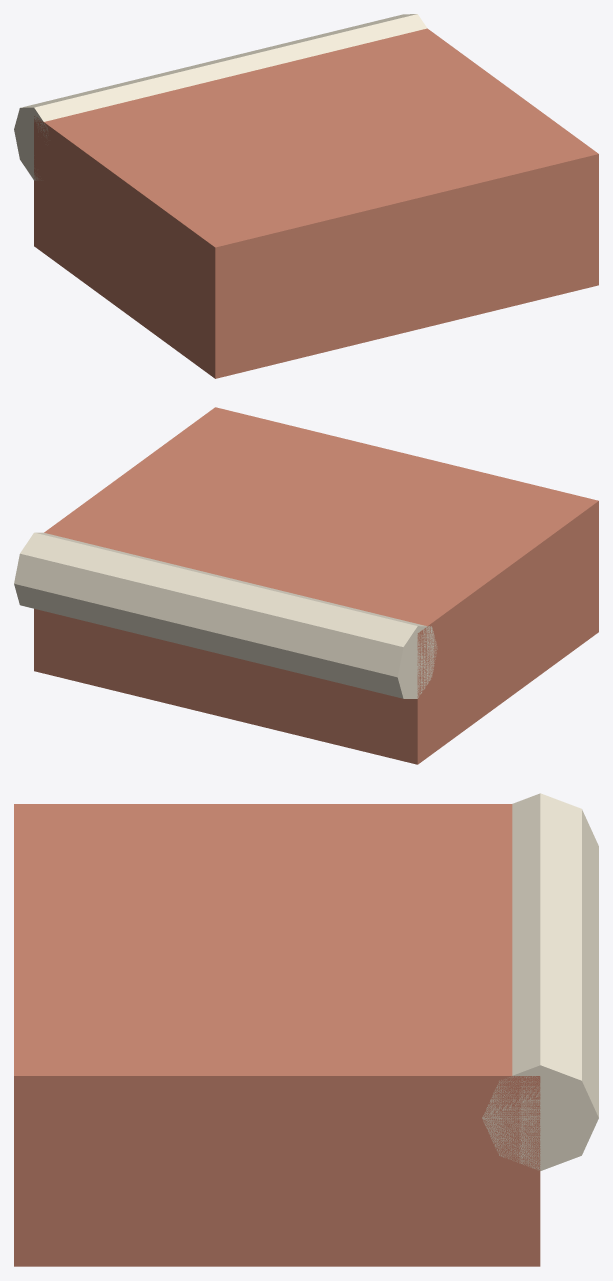
File: TH_Base_Plinth.fbx
3 renders of one model, top to bottom at view 1: azimuth 30°, elevation 25°; view 2: azimuth 150°, elevation 25°; view 3: azimuth 270°, elevation 25°, orthographic. The views are drawn at different scales.
Visible parts, largest first — view 1: TH_Base_Plinth; view 2: TH_Base_Plinth; view 3: TH_Base_Plinth.
Boxes of the visible parts, x1,y1,x2,y2 form: TH_Base_Plinth: (14,14,598,378); TH_Base_Plinth: (14,407,598,764); TH_Base_Plinth: (14,793,598,1266).
Bounding box in the file's own units: 1.1 × 0.38 × 1.
